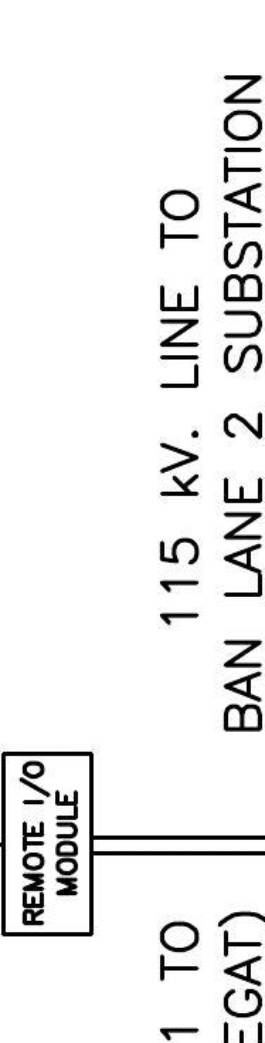remote_io_module: (1, 752, 94, 938)
